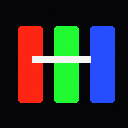3 line_h: (32, 56, 90, 62)
